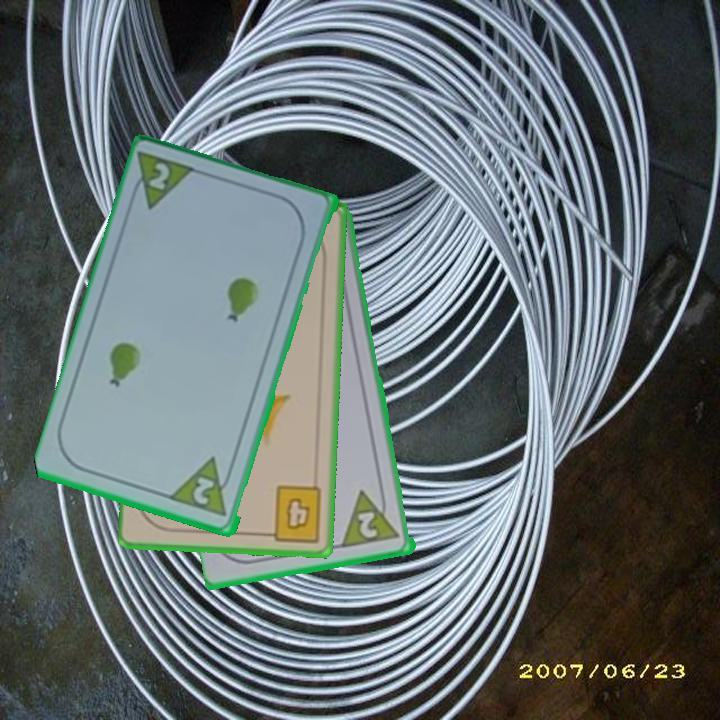2p: (168, 454, 238, 521), (145, 159, 174, 194), (355, 508, 382, 542)
4b: (259, 482, 325, 545)
